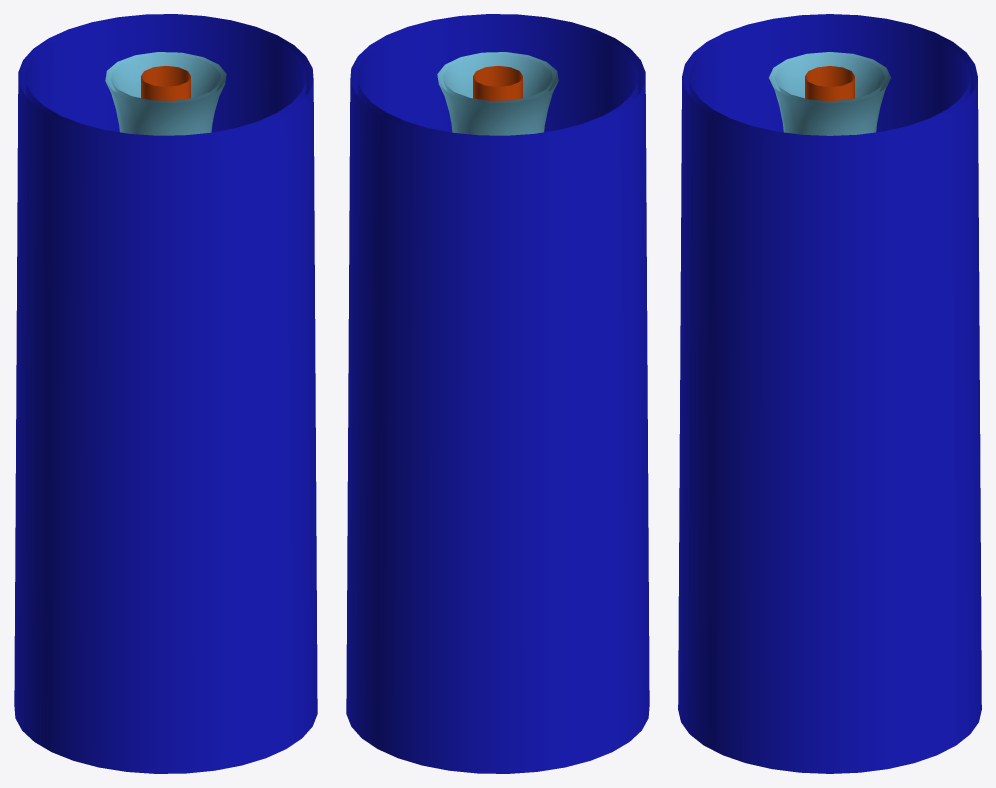
Rendered from ScifiTubeGlass.fbx.
3 renders of one model, left to right at view 1: azimuth 30°, elevation 25°; view 2: azimuth 150°, elevation 25°; view 3: azimuth 270°, elevation 25°, orthographic.
Visible parts, largest first — view 1: scfitubeglass; view 2: scfitubeglass; view 3: scfitubeglass.
Part boxes in pixels (x1,y1,x2,y2): scfitubeglass: (14,14,317,773); scfitubeglass: (346,14,649,773); scfitubeglass: (678,14,981,773).
Size of the model in its own units: 0.8977 by 2.07 by 0.8977.
